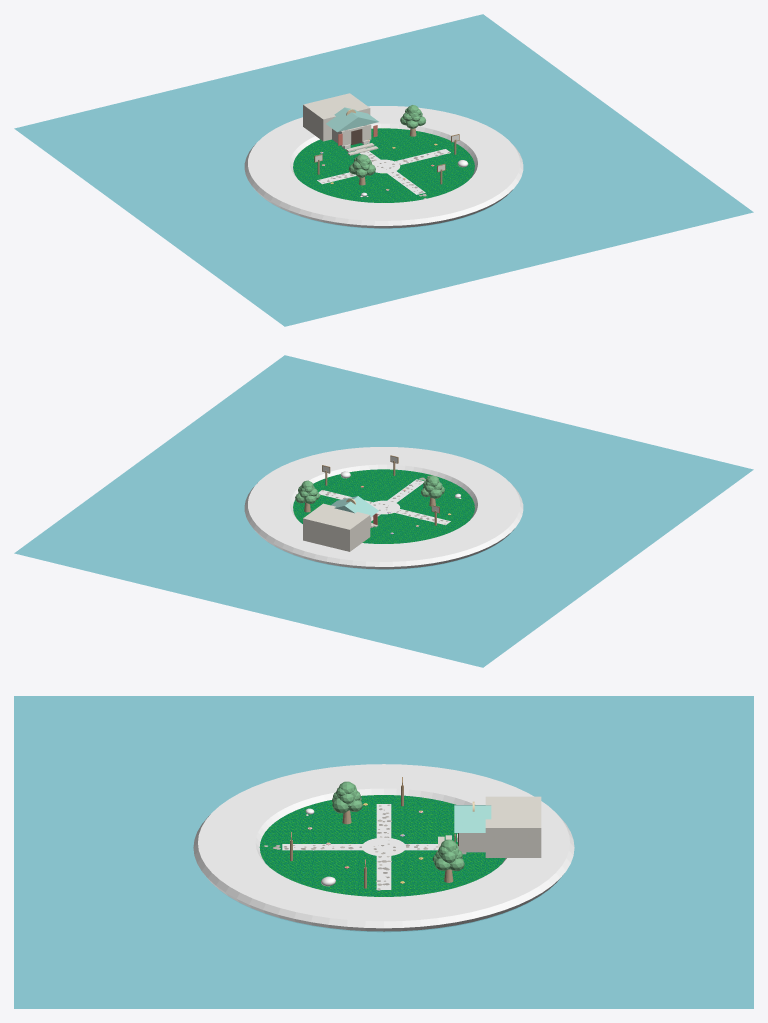
File: animal_crossing_world.glb
3 renders of one model, top to bottom at view 1: azimuth 30°, elevation 25°; view 2: azimuth 150°, elevation 25°; view 3: azimuth 270°, elevation 25°, orthographic. The views are drawn at different scales.
Parts seen in each view (by area): view 1: Ocean, Beach, Island, Museum_MainBody, Museum_RoofPortico; view 2: Ocean, Beach, Island, Museum_MainBody, Museum_RoofPortico; view 3: Ocean, Beach, Island, Museum_MainBody, Museum_RoofPortico, Path_CenterPlaza, Museum_Portico.
Part boxes in pixels (x1,y1,x2,y2): Ocean: [14, 14, 753, 326]; Beach: [244, 106, 523, 228]; Island: [293, 128, 474, 202]; Museum_MainBody: [303, 93, 370, 141]; Museum_RoofPortico: [326, 107, 378, 132]; Ocean: [14, 355, 753, 667]; Beach: [244, 447, 523, 569]; Island: [293, 469, 474, 543]; Museum_MainBody: [303, 503, 370, 551]; Museum_RoofPortico: [331, 496, 378, 517]; Ocean: [14, 696, 753, 1008]; Beach: [193, 764, 574, 931]; Island: [259, 795, 505, 896]; Museum_MainBody: [485, 796, 541, 857]; Museum_RoofPortico: [454, 805, 491, 832]; Path_CenterPlaza: [362, 837, 405, 856]; Museum_Portico: [459, 833, 485, 852].
Size of the model in its own units: 40 by 3.07 by 40.
59 materials, 1 textured.
